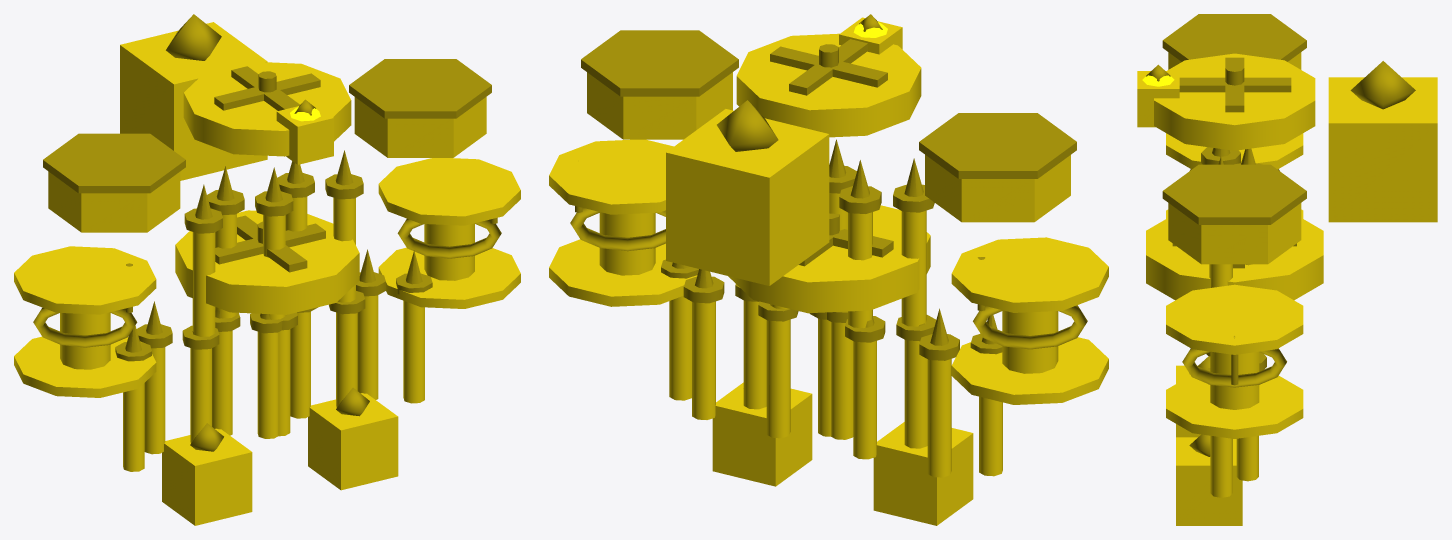
The model's file is golem_036.glb.
3 views of the same model, side by side, from view 1: azimuth 30°, elevation 25°; view 2: azimuth 150°, elevation 25°; view 3: azimuth 270°, elevation 25° (orthographic). The views are drawn at different scales.
Parts seen in each view (by area): view 1: Body, Detail; view 2: Body, Detail; view 3: Body, Detail.
Boxes of the visible parts, x1=… form: Body: x1=14, y1=22, x2=520, y2=525; Detail: x1=33, y1=14, x2=501, y2=451; Body: x1=549, y1=17, x2=1108, y2=525; Detail: x1=570, y1=14, x2=1087, y2=360; Body: x1=1137, y1=52, x2=1437, y2=525; Detail: x1=1146, y1=14, x2=1415, y2=456.
Size of the model in its own units: 1.58 by 1.27 by 0.8361.
